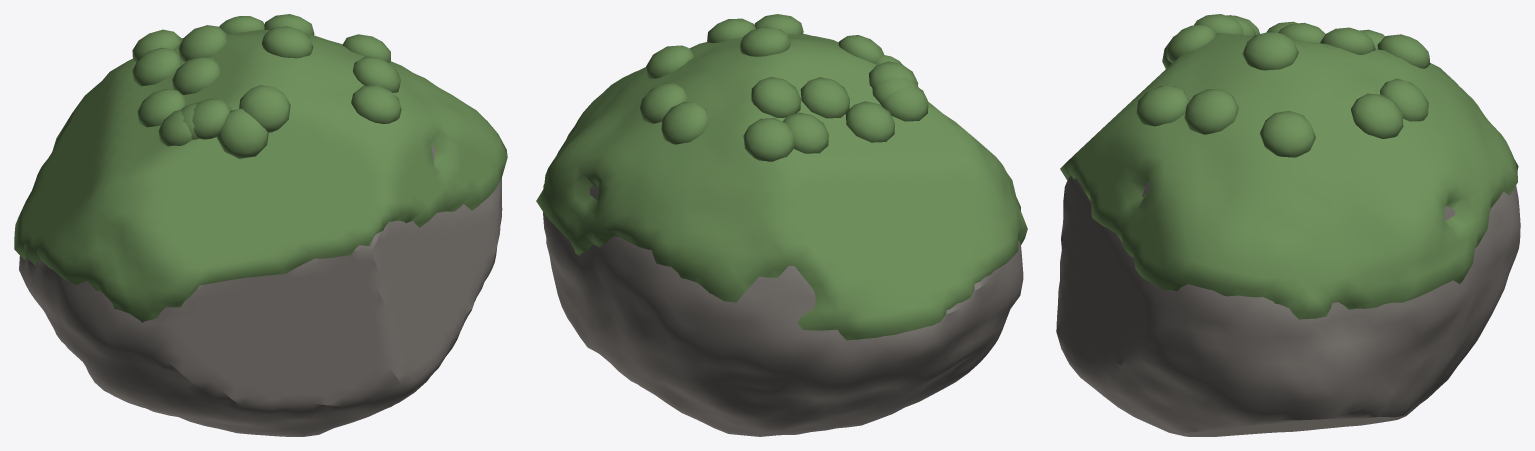
Rendered from RockMossy.fbx.
The picture shows the model from 3 angles, left to right: view 1: azimuth 30°, elevation 25°; view 2: azimuth 150°, elevation 25°; view 3: azimuth 270°, elevation 25°; orthographic projection. The views are drawn at different scales.
Visible parts, largest first — view 1: RockMossy_Moss, RockMossy_Stone; view 2: RockMossy_Moss, RockMossy_Stone; view 3: RockMossy_Moss, RockMossy_Stone.
Part boxes in pixels (<box>): RockMossy_Moss: <box>14,14,507,322</box>; RockMossy_Stone: <box>19,145,502,436</box>; RockMossy_Moss: <box>536,14,1027,340</box>; RockMossy_Stone: <box>543,185,1023,436</box>; RockMossy_Moss: <box>1060,14,1518,319</box>; RockMossy_Stone: <box>1056,176,1520,436</box>.
Size of the model in its own units: 226 by 184 by 197.
